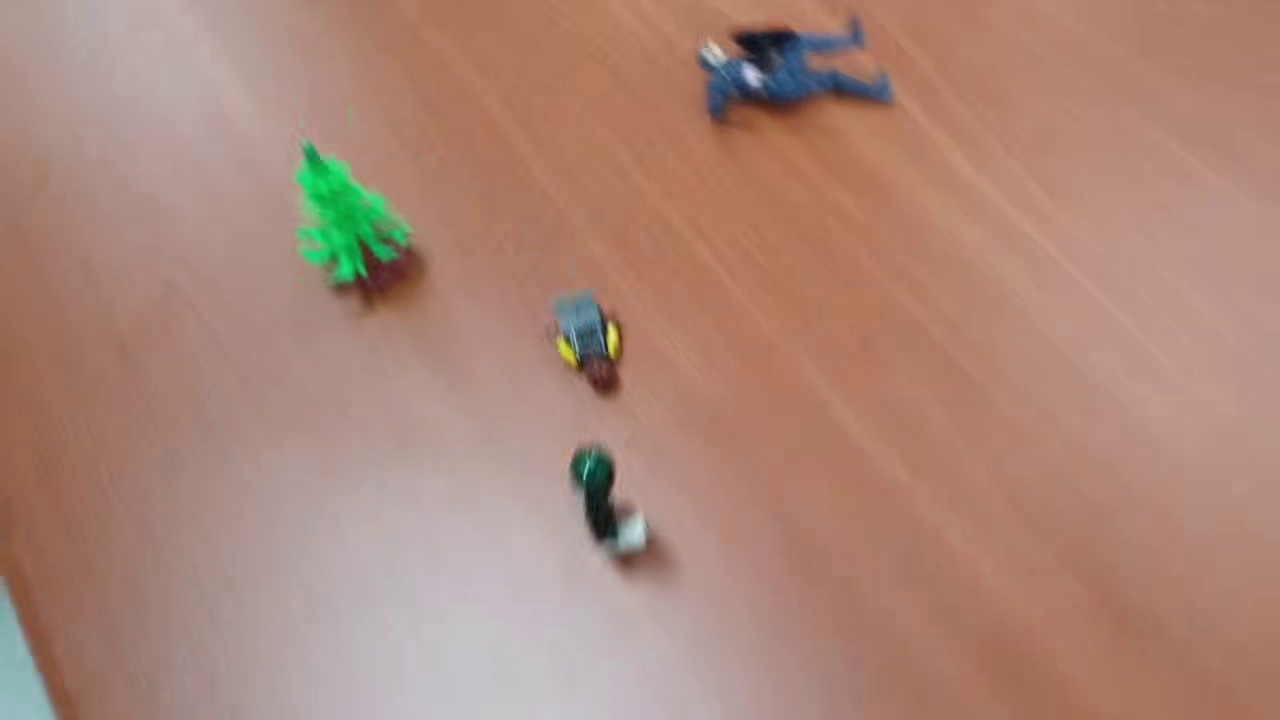people: (697, 12, 898, 129), (569, 443, 655, 568), (542, 294, 631, 393)
tree: (288, 131, 423, 303)
